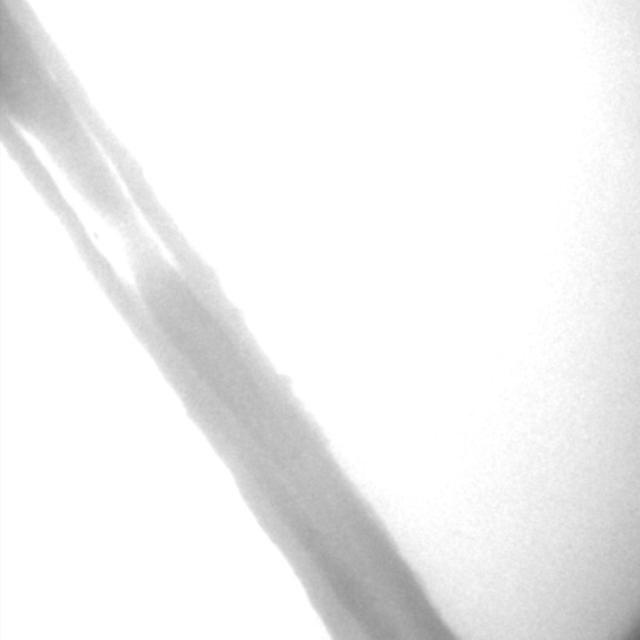unfused: (11, 118, 189, 306)
